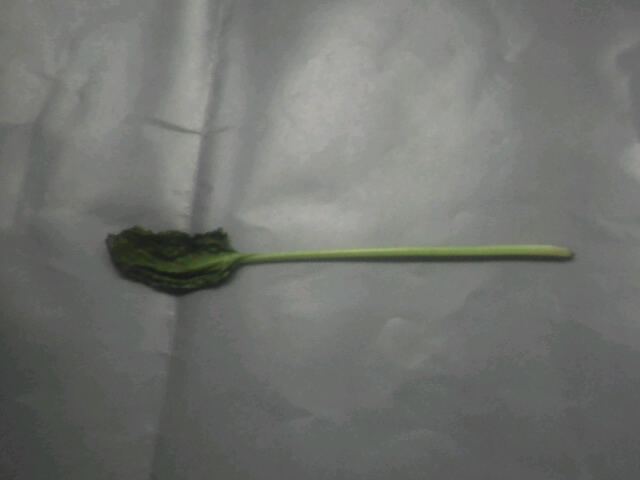yellow: (98, 217, 575, 308)
